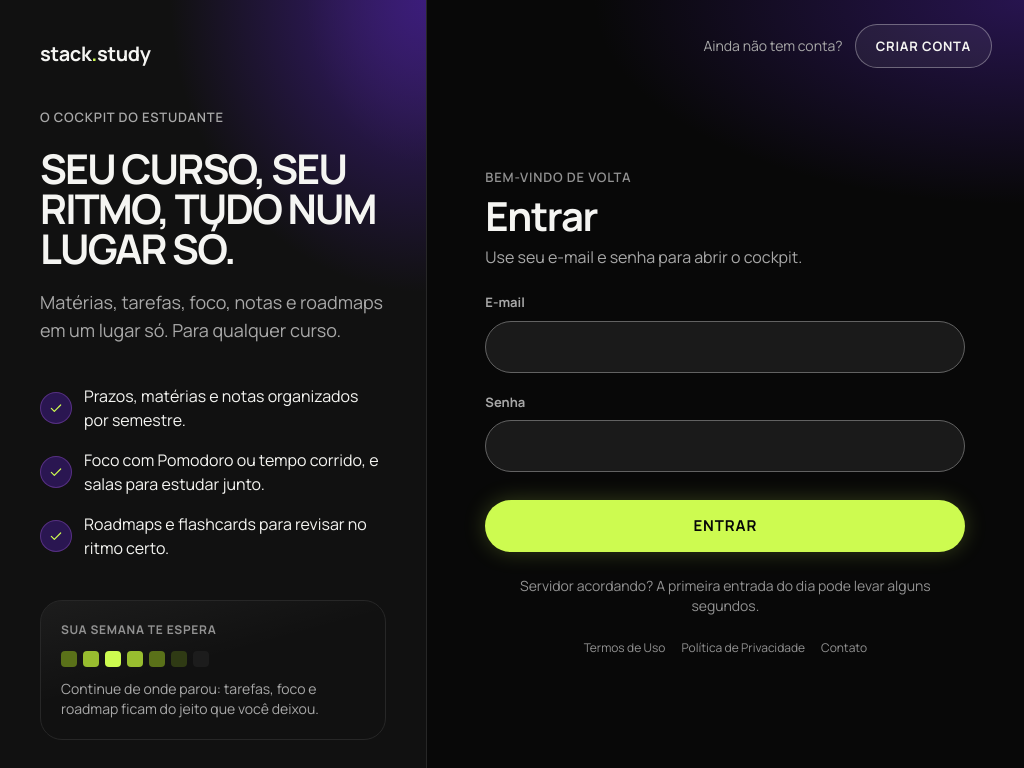
Test: robustez › 429 vira mensagem clara no login
This screenshot has width=1024, height=768.
Type "ada@example.com" into the field labelled "E-mail" at [725, 347], box x1=485 y1=321 x2=965 y2=373
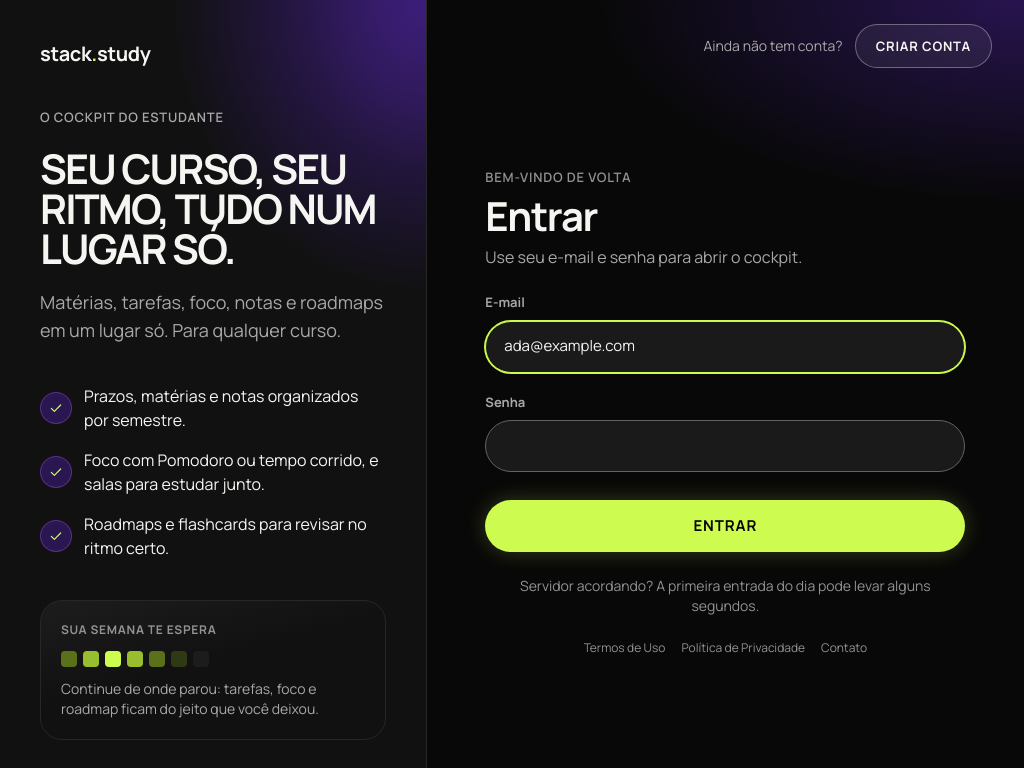
Type "whatever-1" into the password field labelled "Senha" at [725, 446], box x1=485 y1=420 x2=965 y2=472
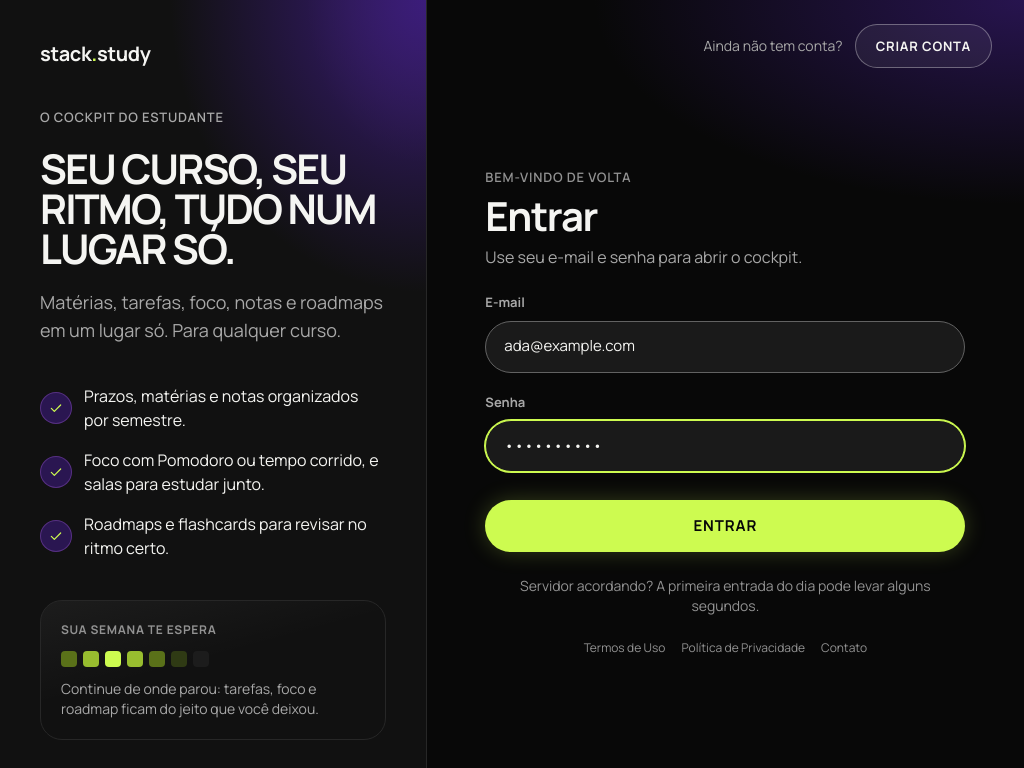
Click the button "Entrar" at [725, 526], box x1=485 y1=500 x2=965 y2=552
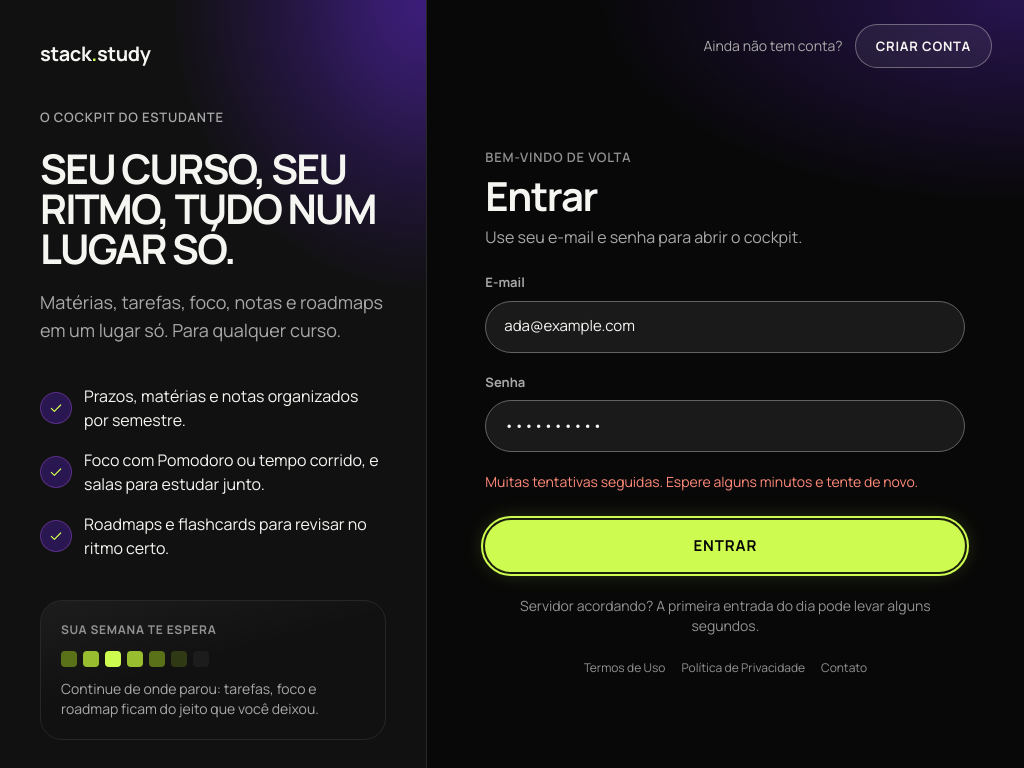
Expected: the text "Muitas tentativas seguidas. Espere alguns minutos e tente de novo." is shown, x1=485 y1=472 x2=965 y2=492
